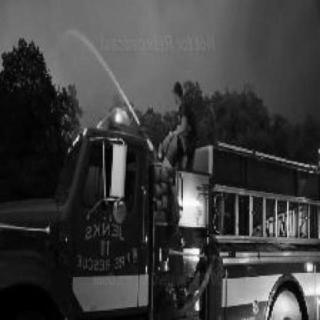other: (94, 100, 140, 132)
